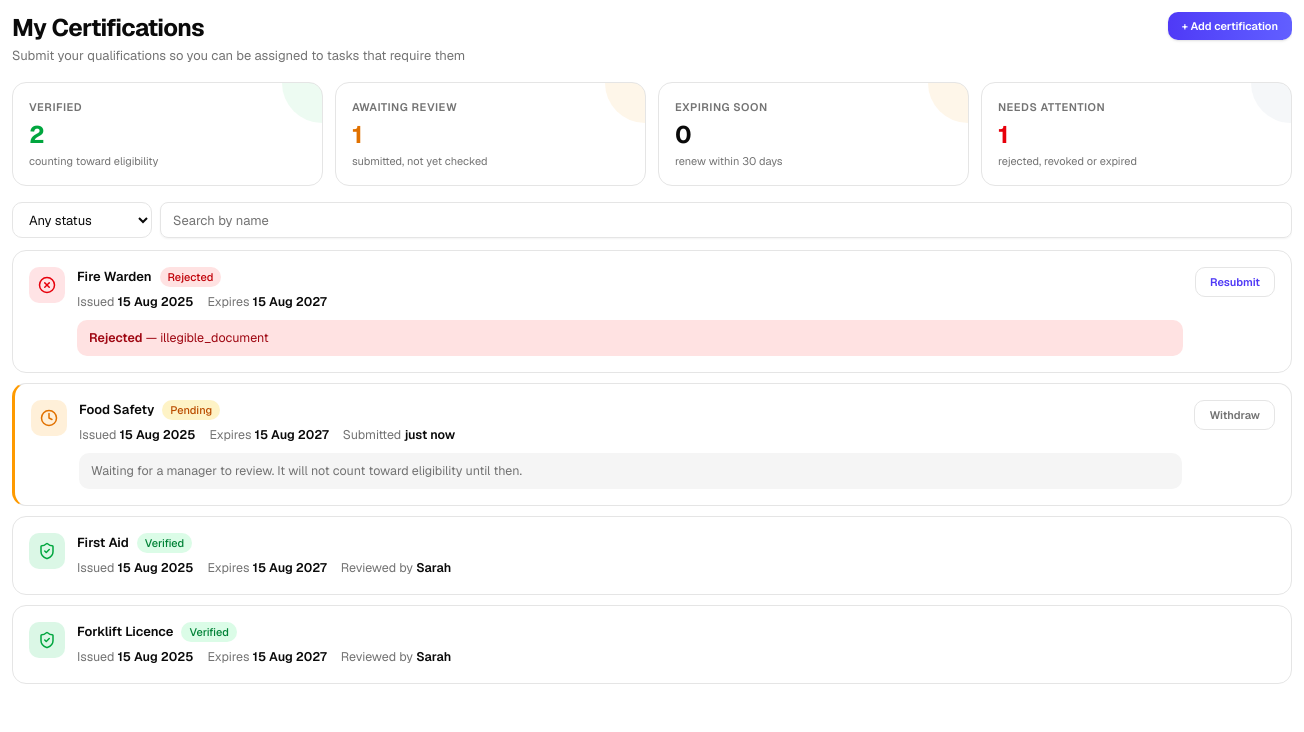
narrowing the list › keeps only the chosen status
Expected: the text "First Aid" is shown, [77, 533, 129, 553]
Select "Awaiting review" in the dropdown named "Status": coordinates (82, 220) [12, 202, 152, 238]
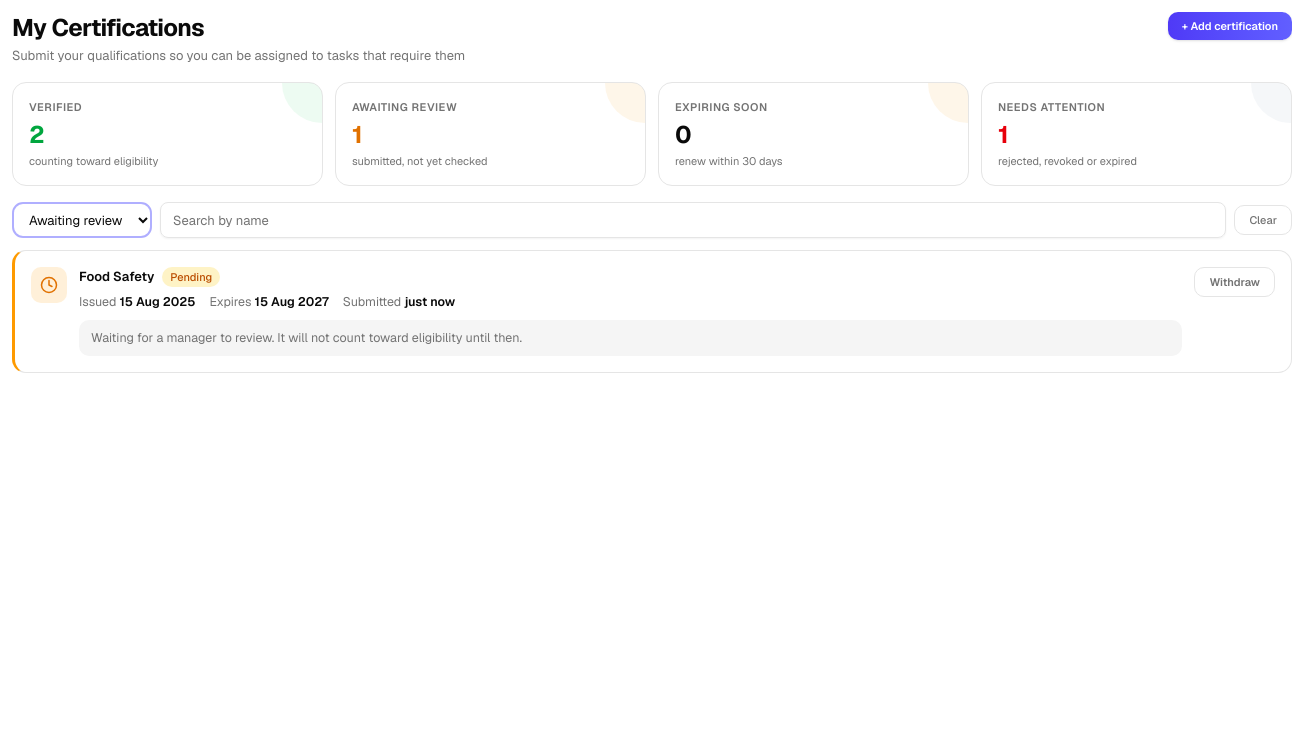
Expected: the text "Food Safety" is shown, [79, 267, 154, 287]
Expected: the text "First Aid" is gone
